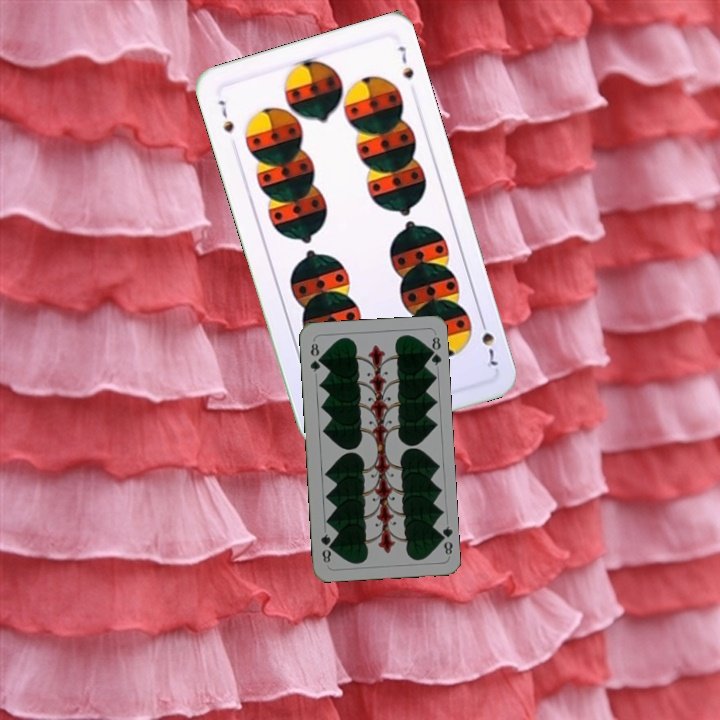G8: (434, 522, 455, 559), (306, 339, 323, 374)
S7: (476, 313, 501, 369), (213, 96, 237, 136)
